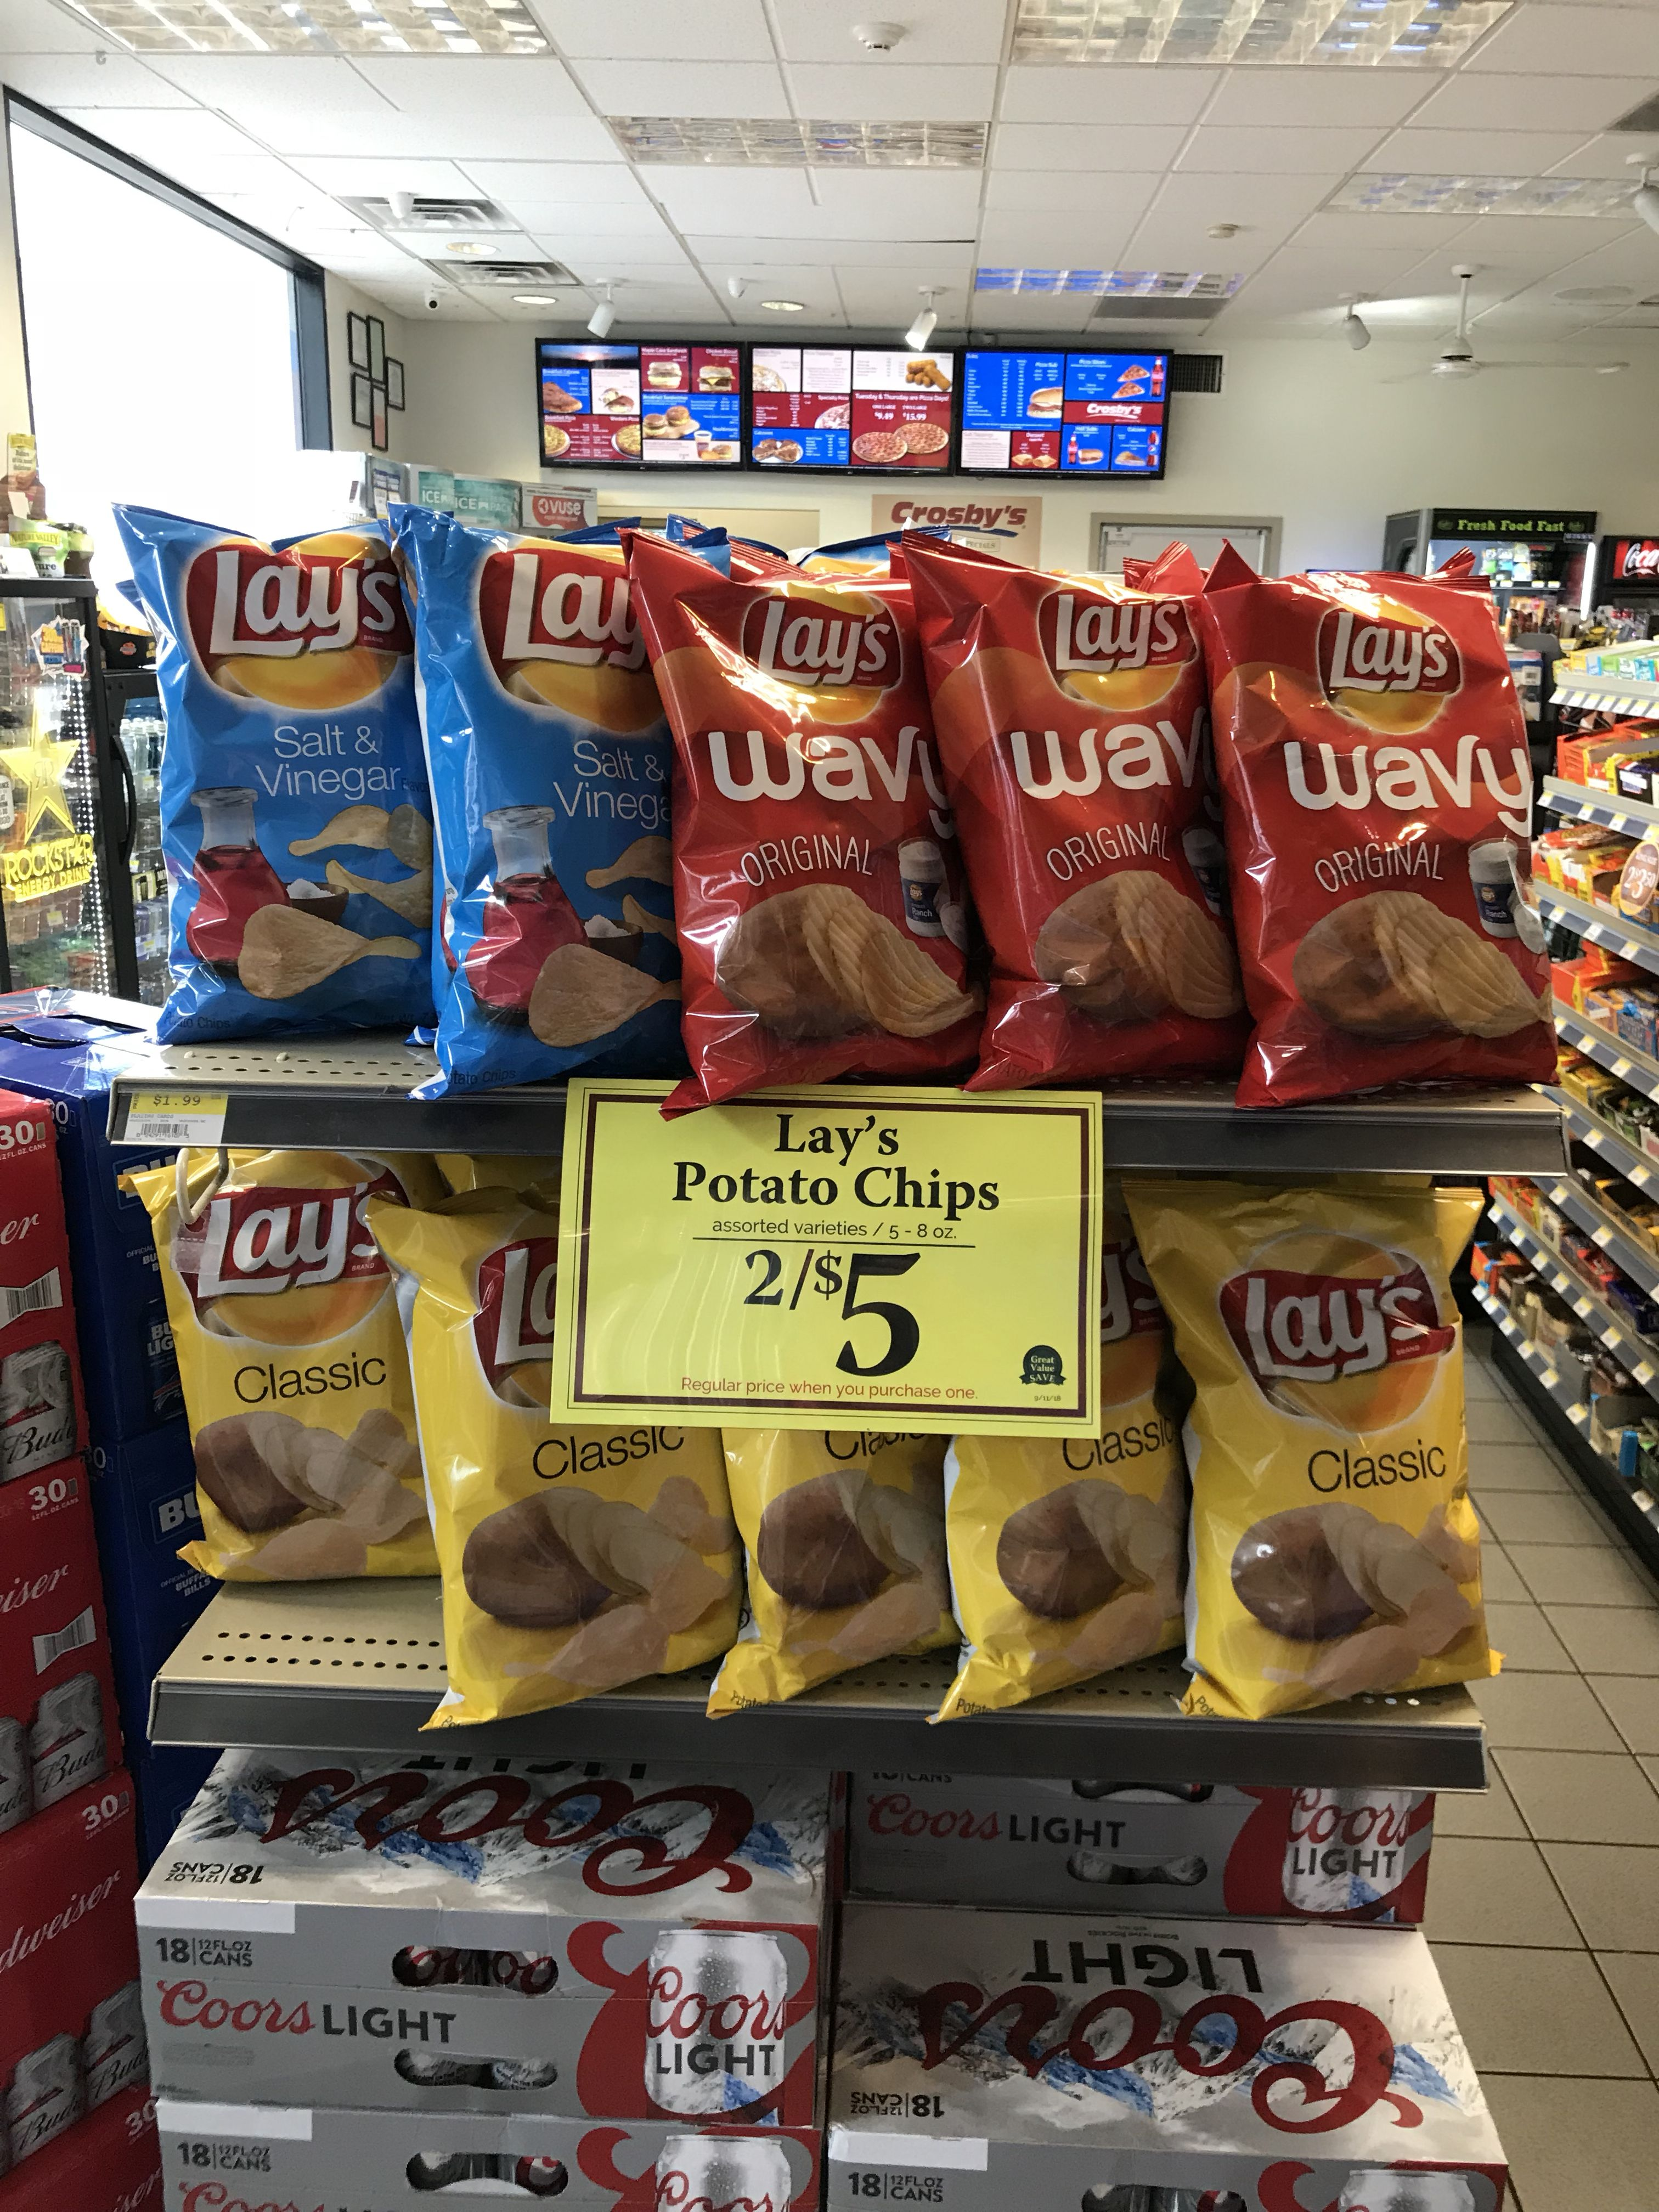chip: (1199, 582, 1565, 1113), (117, 507, 432, 1033), (385, 1221, 727, 1689), (915, 550, 1222, 1071), (645, 538, 946, 1052), (436, 535, 687, 1078), (1201, 1186, 1436, 1724), (143, 1183, 403, 1585)
